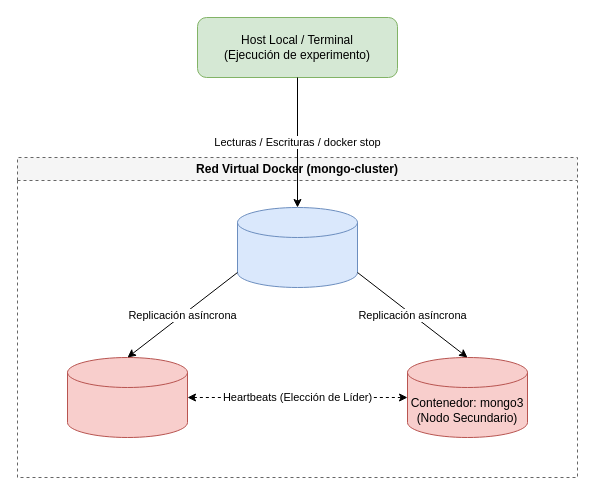
Image size: 595x495. Some labels were removed from this diagram. Each missing label, with the centre of its shape:
Contenedor: mongo1 (Nodo Primario): point (297, 247)
Contenedor: mongo2 (Nodo Secundario): point (127, 397)
